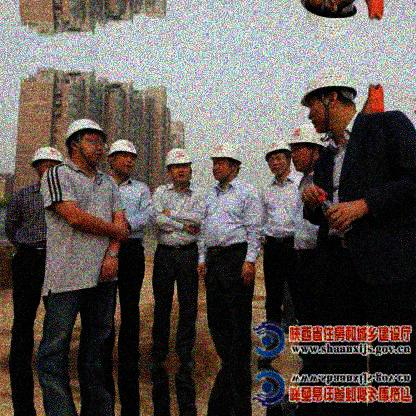helmet: (296, 66, 362, 137), (287, 124, 335, 174), (65, 117, 107, 169), (208, 141, 244, 183), (106, 139, 142, 179), (163, 147, 194, 187), (263, 138, 293, 177)
